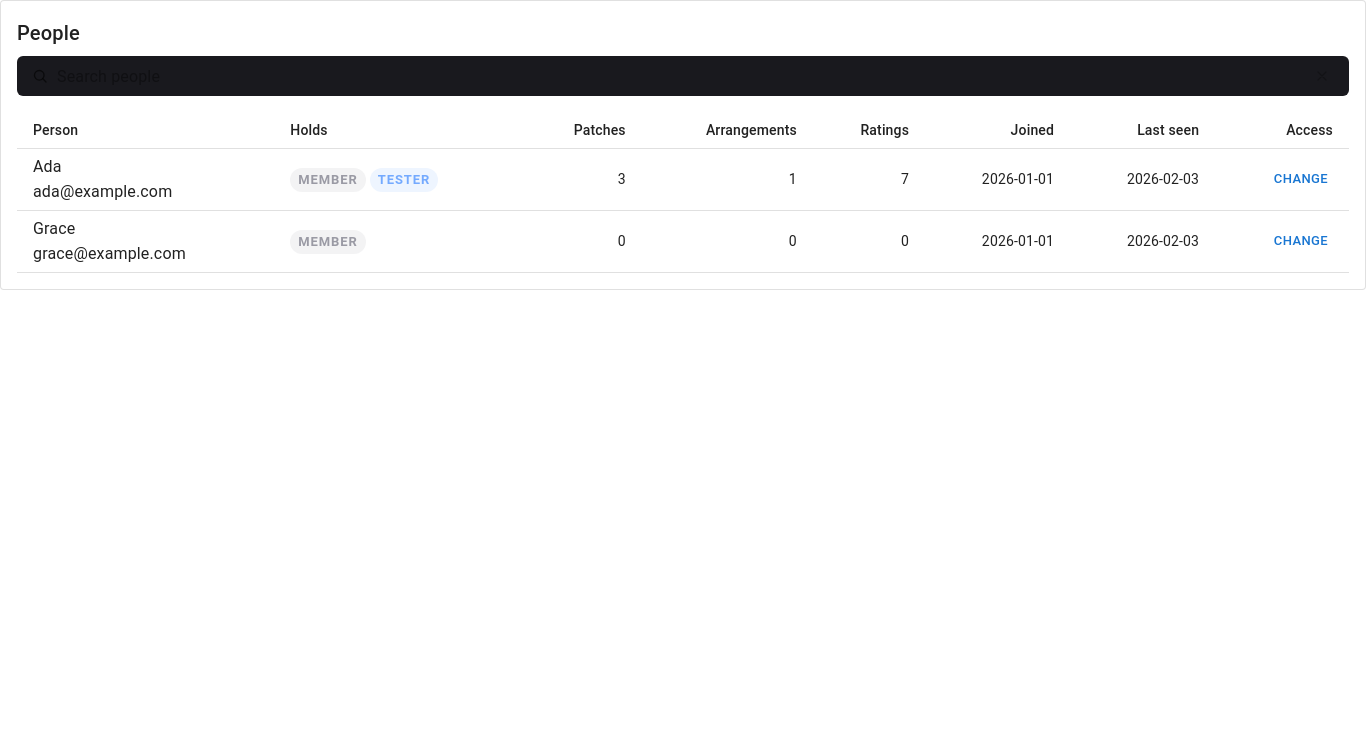
Test case: what a role gives › lists what each rung adds, beside the button that gives it
The width and height of the screenshot is (1366, 743).
Click the button "Change" in the row of "ada@example.com" at (1301, 180), box [1269,164,1333,195]
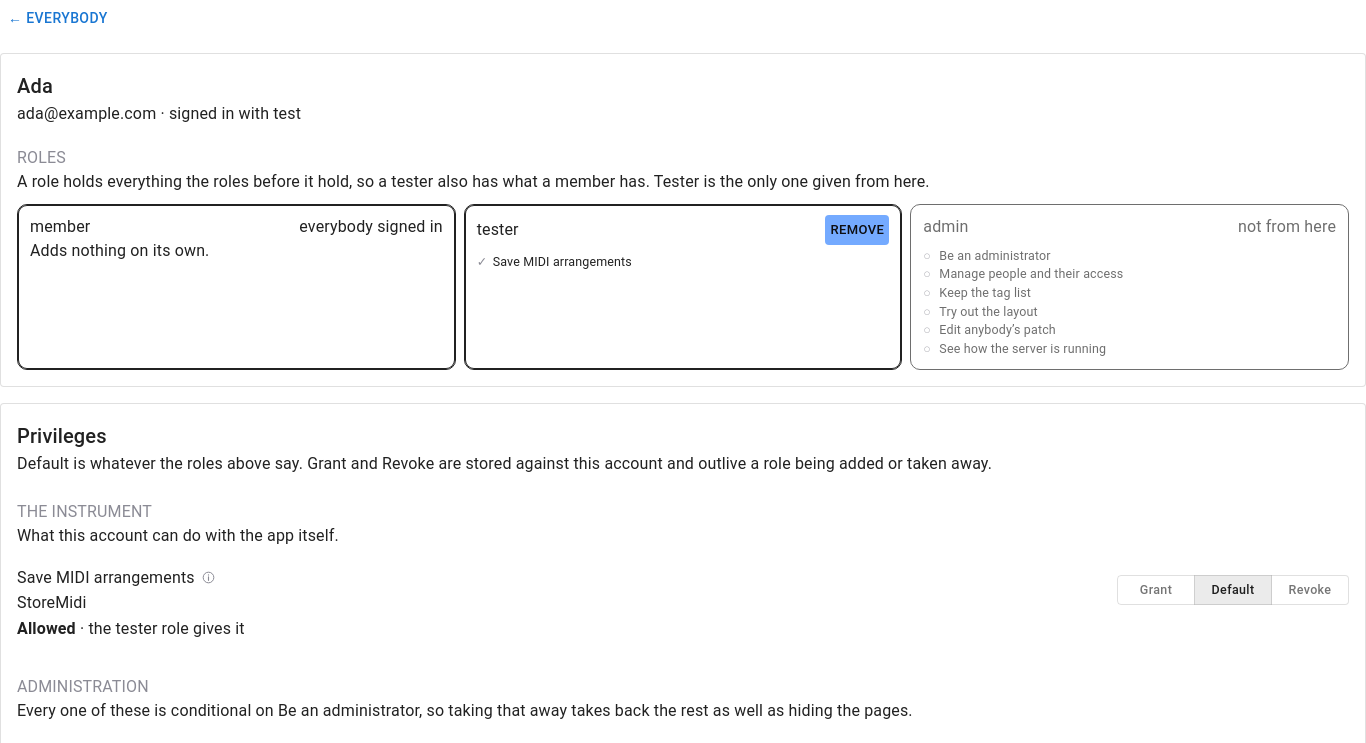
Expected: the text "admin" does not show "Save MIDI arrangements"
Expected: the text "tester" shows "Save MIDI arrangements", [493,254,632,269]
Expected: the text "admin" shows "Manage people and their access", [939,266,1123,281]
